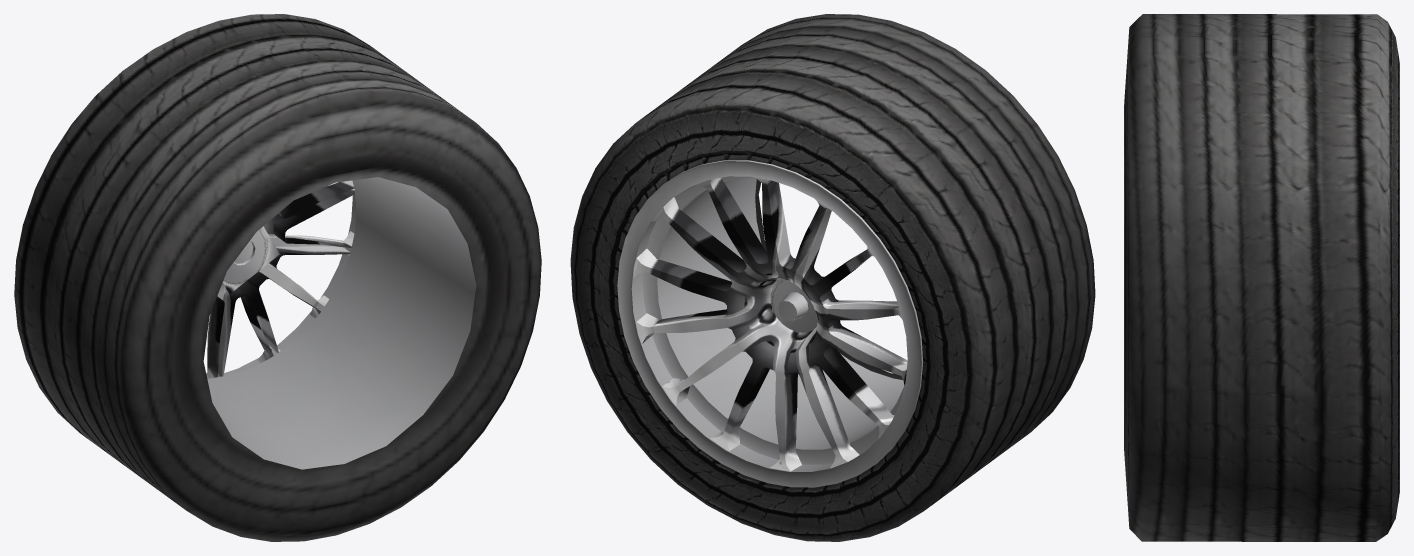
File: llanta_texturizada_derecha.obj
3 renders of one model, left to right at view 1: azimuth 30°, elevation 25°; view 2: azimuth 150°, elevation 25°; view 3: azimuth 270°, elevation 25°, orthographic. The views are drawn at different scales.
Visible parts, largest first — view 1: wheel_rf_003_dbl_wheel_rf_002.001, wheel_rf_003_dbl_wheel_rf_001.001; view 2: wheel_rf_003_dbl_wheel_rf_002.001, wheel_rf_003_dbl_wheel_rf_001.001; view 3: wheel_rf_003_dbl_wheel_rf_002.001.
Part boxes in pixels (x1,y1,x2,y2): wheel_rf_003_dbl_wheel_rf_002.001: [14, 14, 541, 541]; wheel_rf_003_dbl_wheel_rf_001.001: [206, 177, 476, 469]; wheel_rf_003_dbl_wheel_rf_002.001: [570, 14, 1095, 541]; wheel_rf_003_dbl_wheel_rf_001.001: [617, 160, 923, 487]; wheel_rf_003_dbl_wheel_rf_002.001: [1124, 14, 1399, 541].
Size of the model in its own units: 0.6692 by 0.6695 by 0.3494.
